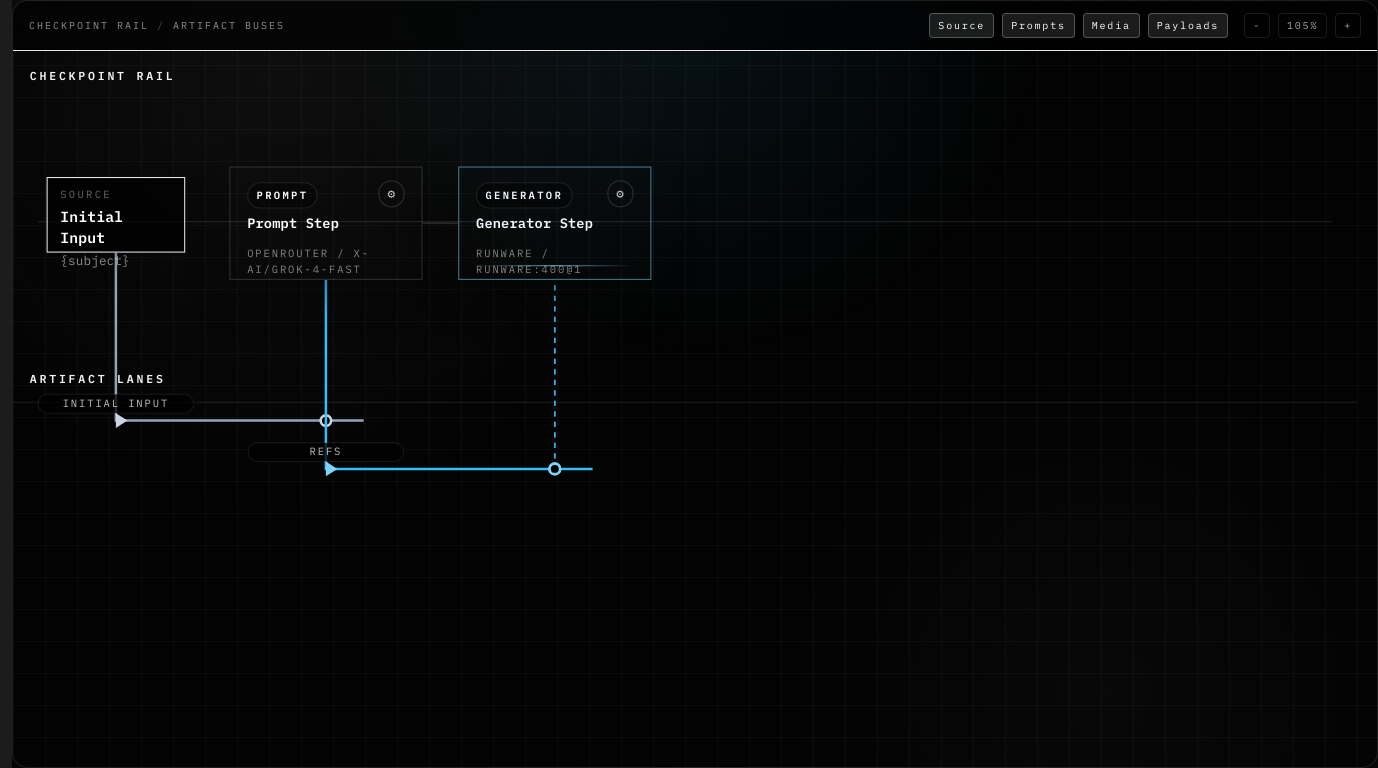
it: PipelineExtendedView › renders mapping labels and selects checkpoint from the settings icon
This screenshot has width=1378, height=768.
Expected: the text "Artifact Lanes" is shown, [30,370,166,388]
Click the button named "Open Generator Step settings" at x=620, y=194, box [607,180,634,207]
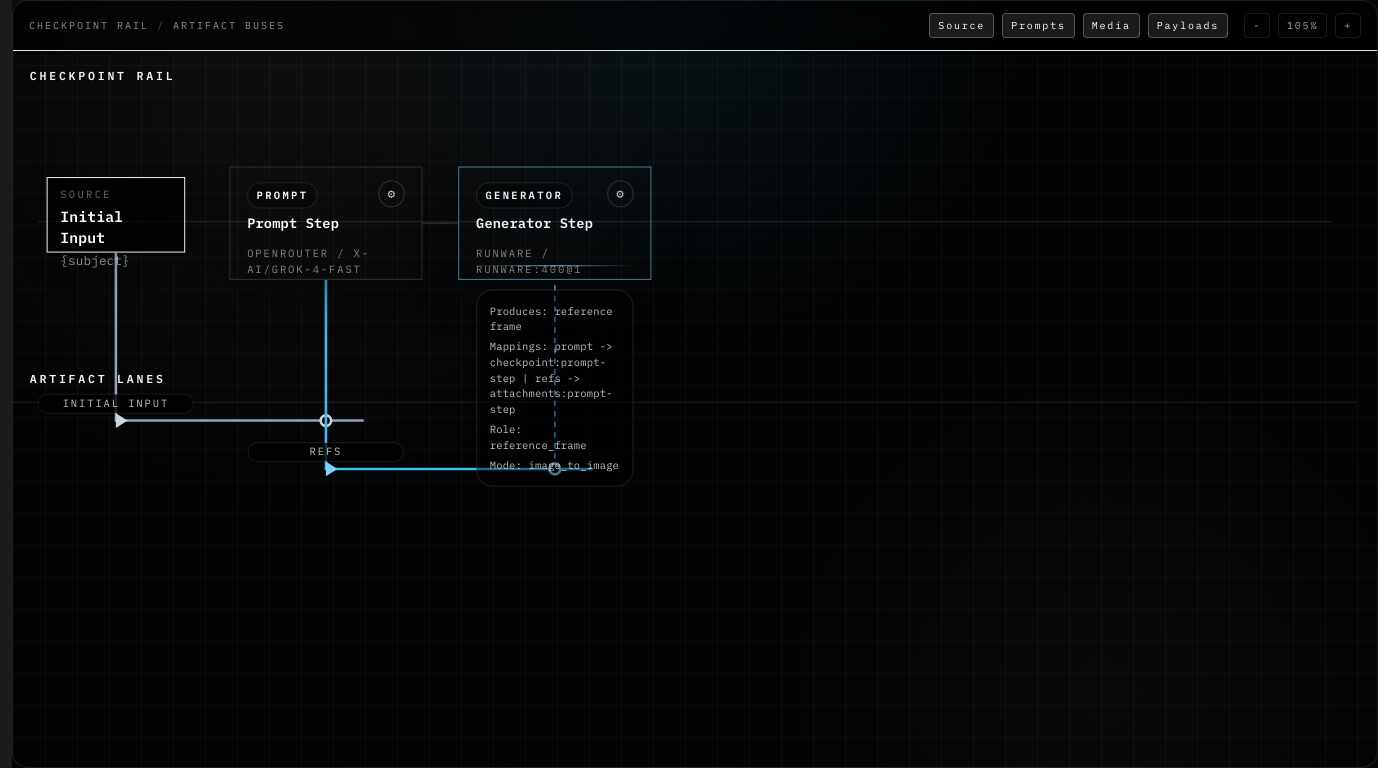
Result: the text "Mappings: prompt -> checkpoint:prompt-step" is shown at [490,339,620,417]
Result: the text "refs -> attachments:prompt-step" is shown at [490,340,613,416]
Click the button named "Open Prompt Step settings" at x=391, y=194, box [378,180,405,207]
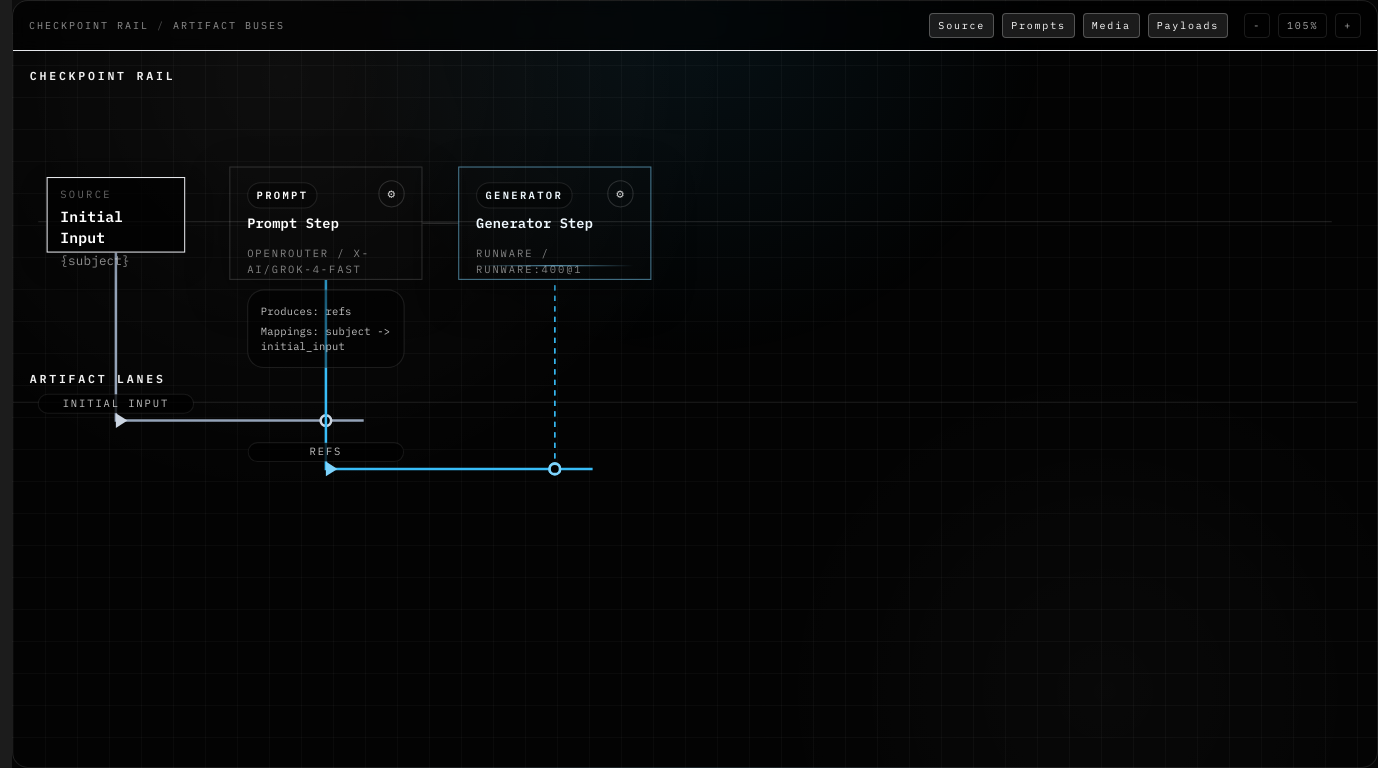
Result: the text "Mappings: subject -> initial_input" is shown at [261,323,391,354]
